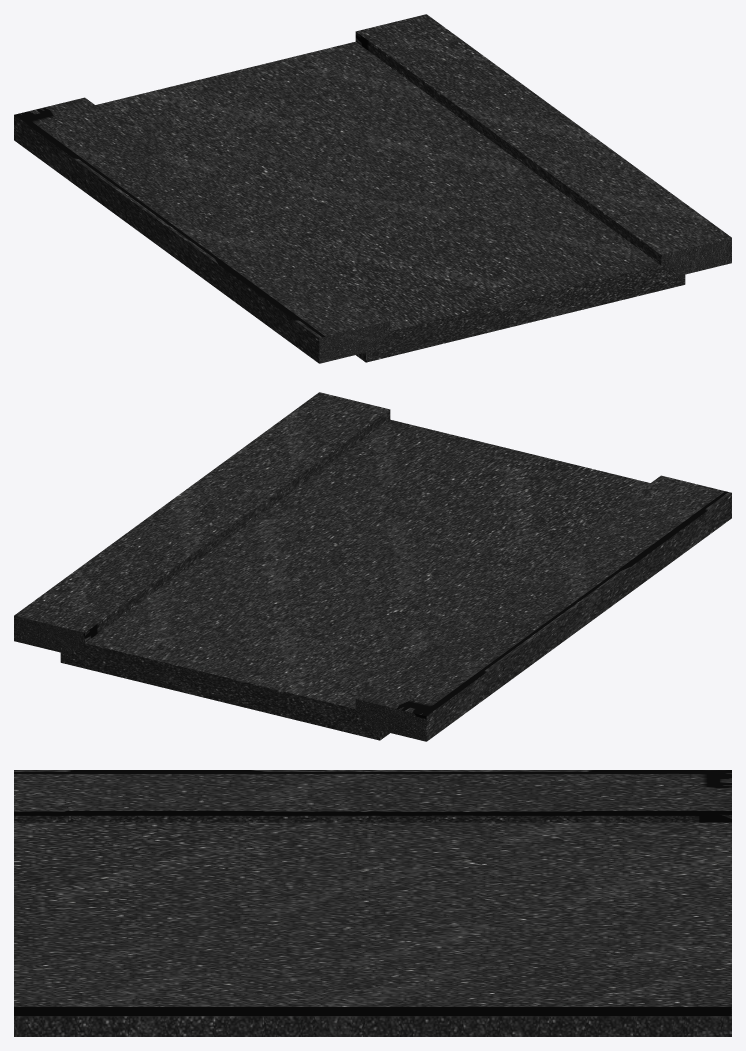
File: cesta1.fbx
3 views of the same model, one above another, from view 1: azimuth 30°, elevation 25°; view 2: azimuth 150°, elevation 25°; view 3: azimuth 270°, elevation 25° (orthographic). The views are drawn at different scales.
Visible parts, largest first — view 1: road; view 2: road; view 3: road.
Part boxes in pixels (x1,y1,x2,y2): road: (14,14,731,363); road: (14,392,731,741); road: (14,770,731,1036).
Size of the model in its own units: 5219 by 4072 by 336.
